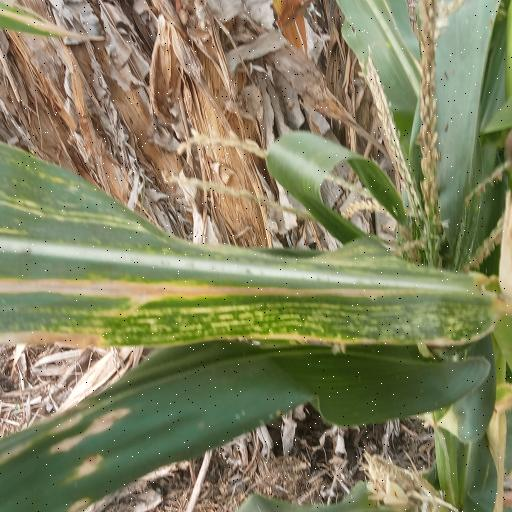Corn_Streak: (0, 151, 495, 356)
